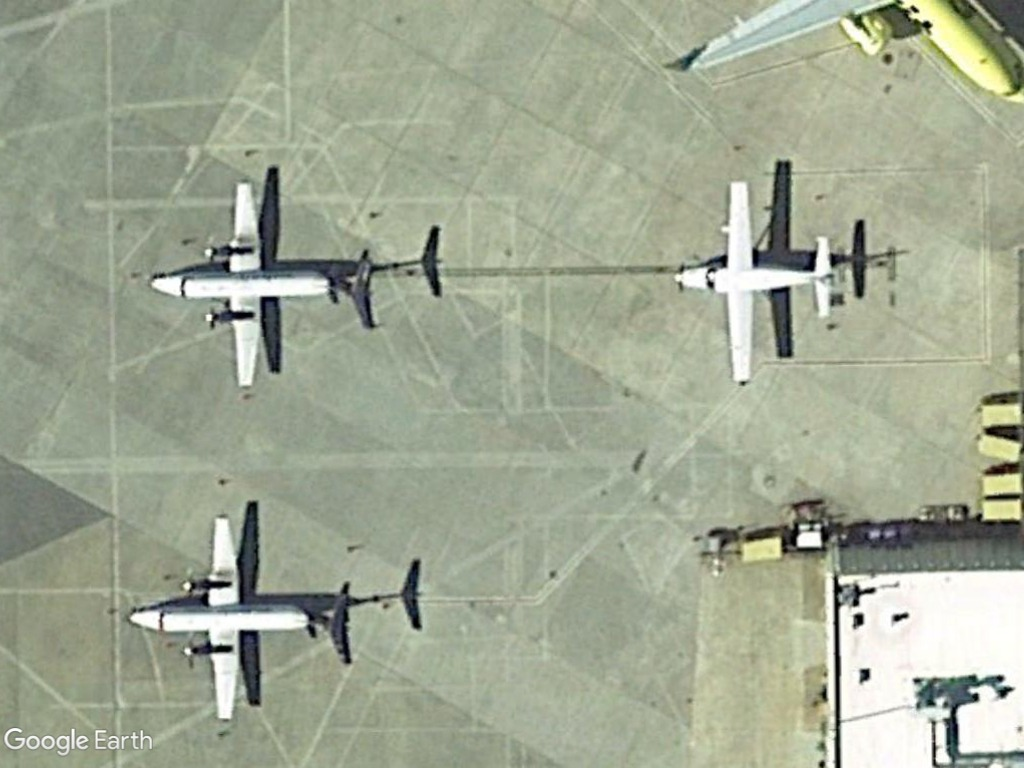propeller: (120, 508, 359, 732), (145, 173, 385, 391)
trainer: (671, 177, 838, 384)
